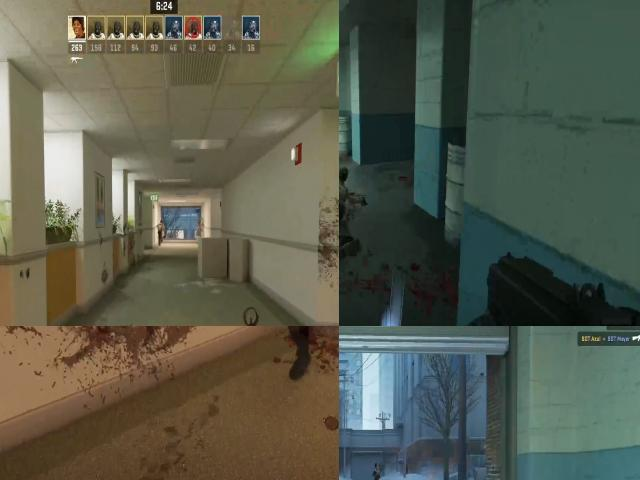Dead: (339, 166, 365, 243)
T: (372, 459, 383, 480), (158, 220, 165, 242)
T-Head: (374, 463, 380, 471), (158, 220, 162, 228)
